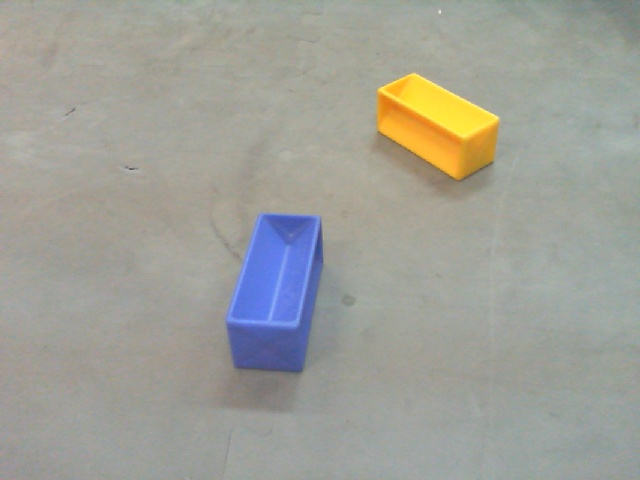BlueSample: (218, 209, 328, 379)
YellowSample: (373, 71, 505, 183)
